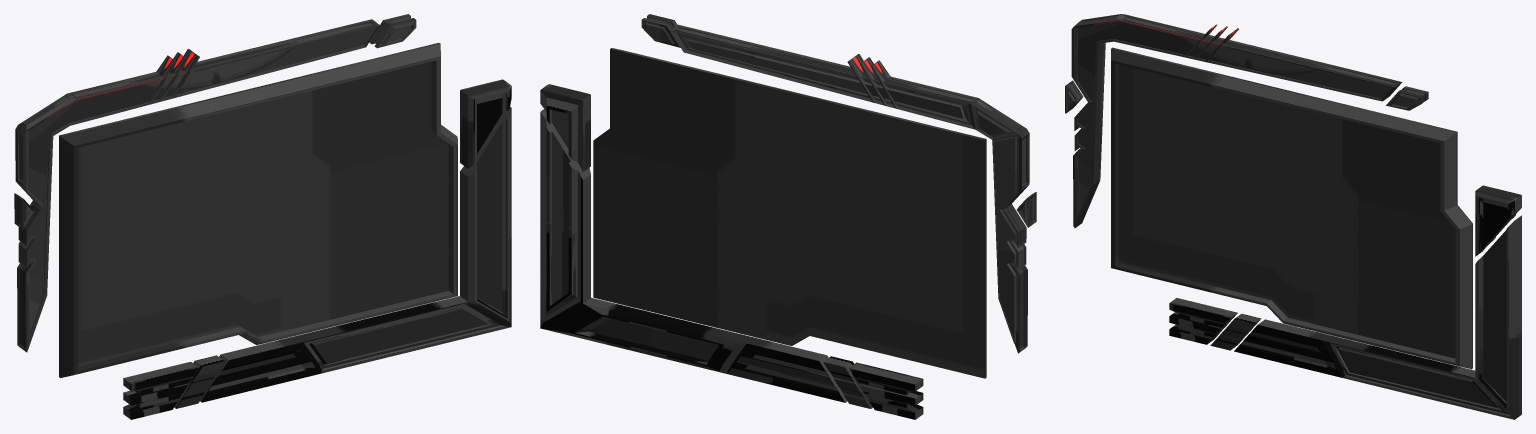
The model's file is Card_Holo.glb.
3 renders of one model, left to right at view 1: azimuth 30°, elevation 25°; view 2: azimuth 150°, elevation 25°; view 3: azimuth 330°, elevation 25°, orthographic. The views are drawn at different scales.
Parts seen in each view (by area): view 1: Cadre_gameasset.009, Cube.002_gameasset, Cube.001_gameasset, Cube.005_gameasset, Cube.006_gameasset, Cube.007_gameasset, Cube.004_gameasset, Cube.003_gameasset; view 2: Cadre_gameasset.009, Cube.002_gameasset, Cube.001_gameasset, Cube.005_gameasset, Cube.006_gameasset, Cube.007_gameasset, Cube.004_gameasset, Cube.003_gameasset; view 3: Cadre_gameasset.009, Cube.002_gameasset, Cube.001_gameasset, Cube.006_gameasset, Cube.005_gameasset, Cube.007_gameasset, Cube.004_gameasset.
Part boxes in pixels (box(x1,y1,x2,y2)): Cadre_gameasset.009: box(59, 43, 457, 377); Cube.002_gameasset: box(200, 106, 511, 402); Cube.001_gameasset: box(15, 19, 379, 352); Cube.005_gameasset: box(460, 79, 511, 168); Cube.006_gameasset: box(123, 361, 198, 419); Cube.007_gameasset: box(174, 355, 224, 408); Cube.004_gameasset: box(369, 14, 416, 48); Cube.003_gameasset: box(14, 193, 34, 229); Cadre_gameasset.009: box(593, 48, 986, 378); Cube.002_gameasset: box(540, 109, 847, 402); Cube.001_gameasset: box(670, 24, 1029, 353); Cube.005_gameasset: box(540, 84, 590, 171); Cube.006_gameasset: box(848, 362, 923, 419); Cube.007_gameasset: box(823, 356, 872, 408); Cube.004_gameasset: box(641, 14, 680, 47); Cube.003_gameasset: box(1016, 192, 1036, 227); Cadre_gameasset.009: box(1111, 47, 1472, 369); Cube.002_gameasset: box(1234, 215, 1521, 419); Cube.001_gameasset: box(1071, 14, 1402, 228); Cube.006_gameasset: box(1169, 298, 1237, 344); Cube.005_gameasset: box(1475, 185, 1521, 256); Cube.007_gameasset: box(1210, 313, 1261, 350); Cube.004_gameasset: box(1386, 86, 1428, 110).
Size of the model in its own units: 19.01 by 12.85 by 1.05.
Materials: 5 (5 with a texture image).
